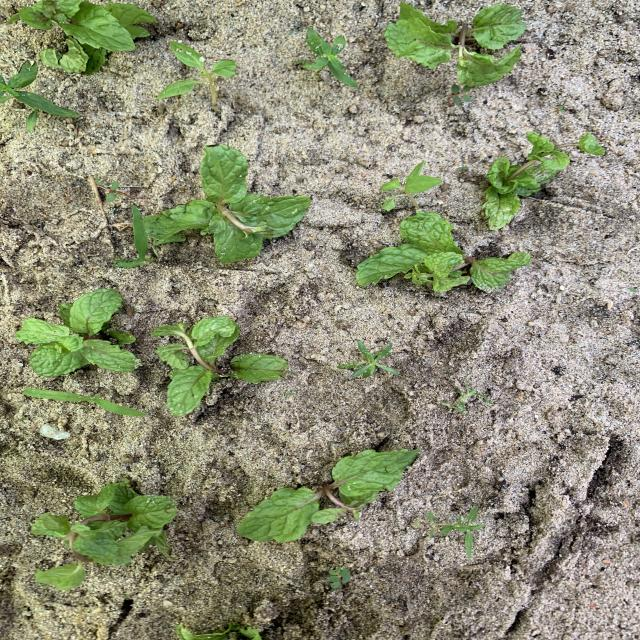crop: (144, 145, 311, 264), (240, 450, 419, 542), (32, 481, 176, 590), (356, 212, 531, 291), (152, 317, 288, 414), (384, 3, 525, 87), (483, 132, 605, 229), (16, 290, 138, 375), (11, 1, 155, 72), (177, 624, 262, 639)
weed: (0, 61, 80, 130), (157, 40, 236, 109), (299, 29, 358, 87), (380, 161, 443, 212), (25, 389, 145, 415), (114, 206, 155, 267), (339, 341, 398, 377), (442, 507, 483, 556), (440, 378, 475, 411), (328, 567, 351, 589), (447, 85, 471, 106), (426, 511, 439, 535)
